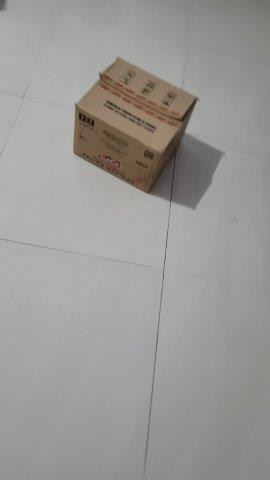kardus: (75, 57, 197, 194)
